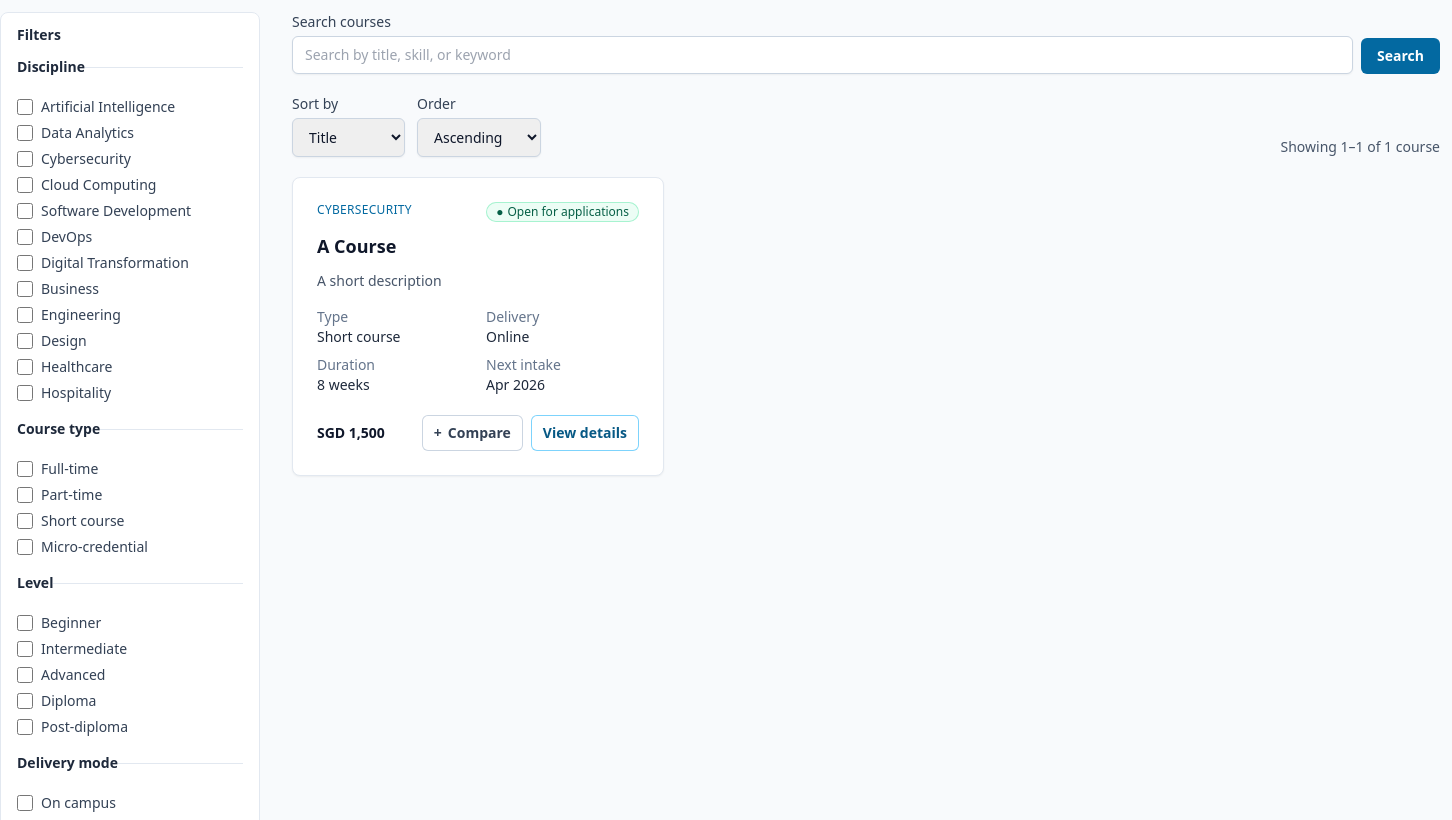
CourseCatalogue › shows an empty state with a reset action after searching
The image size is (1452, 820).
Expected: the text "Showing 1–1 of 1 course" is shown, [1280,137,1440,157]
Type "zzzz" into the search field labelled "Search courses" at (823, 55), box [292,36,1353,74]
Then press Enter
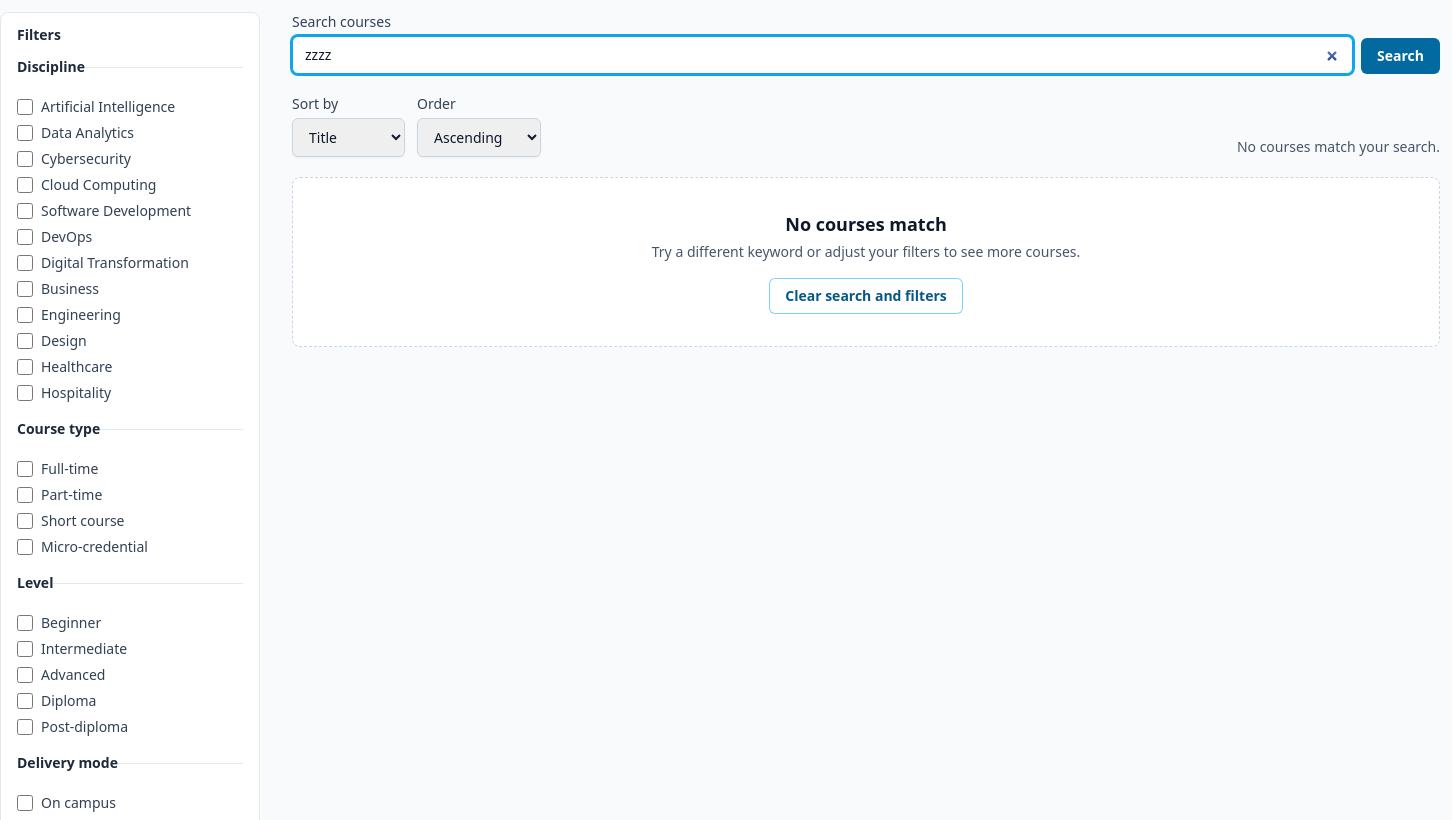
Expected: the heading "No courses match" is shown, [785,212,947,236]
Expected: the button "Clear search and filters" is shown, [769,278,963,314]
